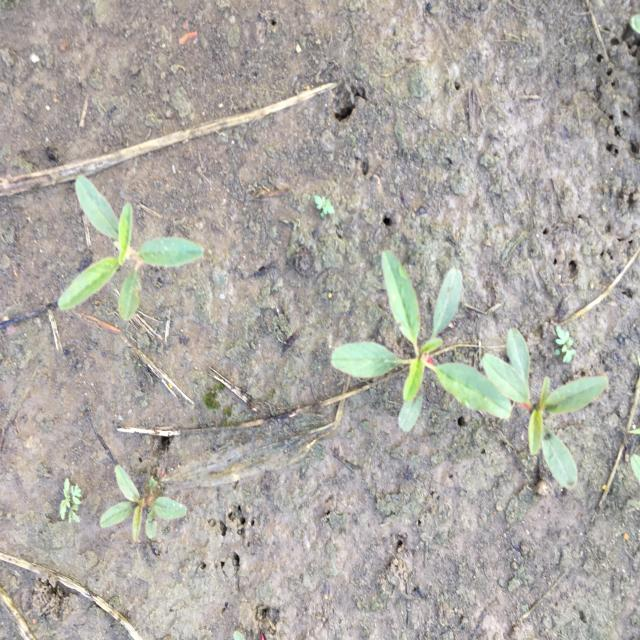Ragweed: (56, 479, 84, 529)
Waterhemp: (328, 245, 514, 436), (55, 174, 207, 325), (482, 327, 612, 494), (98, 462, 188, 546)
